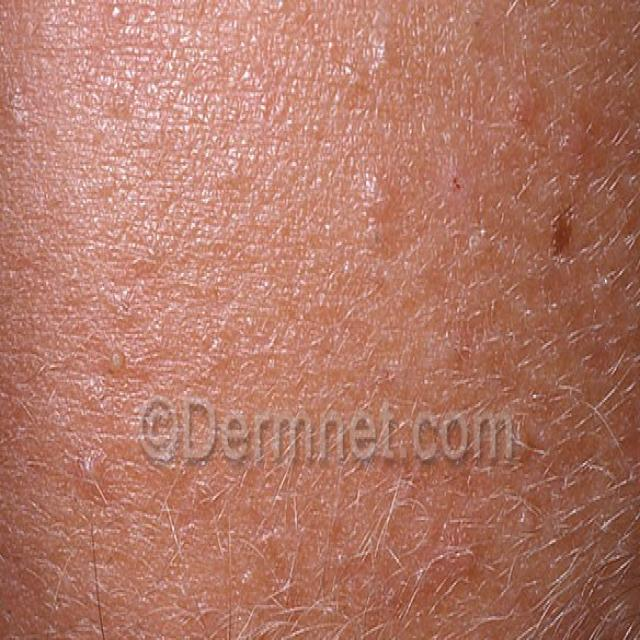Acne: (145, 512, 518, 640), (0, 22, 118, 202), (342, 143, 418, 295), (93, 316, 163, 413), (60, 411, 116, 514), (357, 30, 430, 106), (460, 203, 515, 295)
